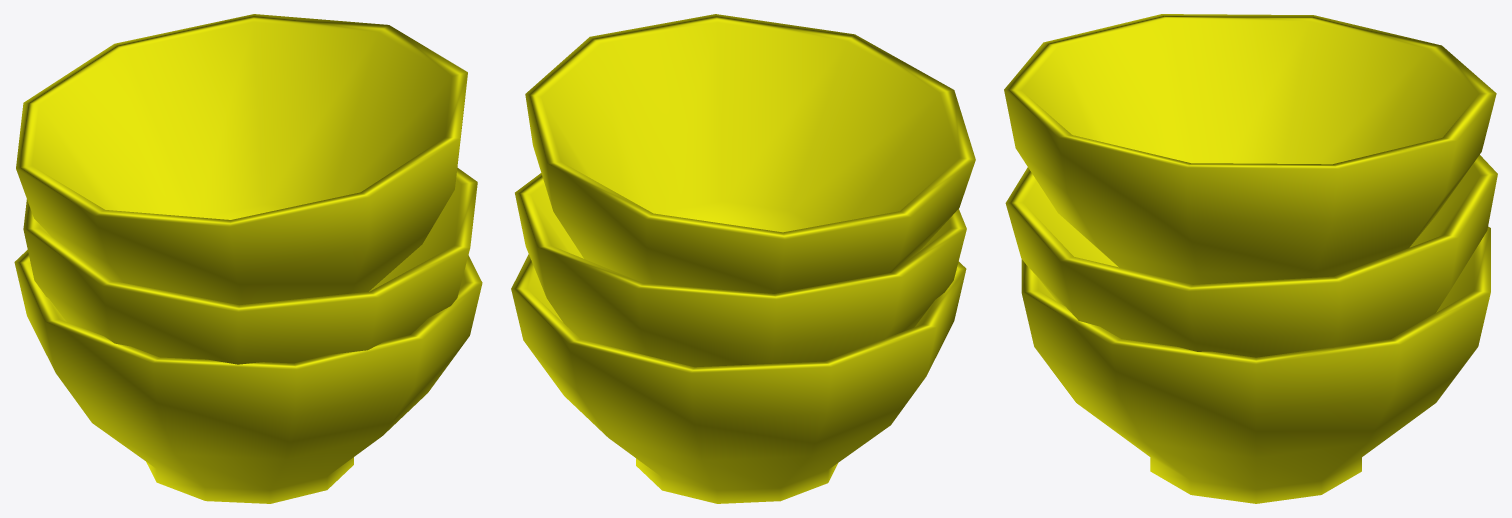
Rendered from Bowl_Pile_01_Lod1.fbx.
The picture shows the model from 3 angles, left to right: view 1: azimuth 30°, elevation 25°; view 2: azimuth 150°, elevation 25°; view 3: azimuth 270°, elevation 25°; orthographic projection. The views are drawn at different scales.
Visible parts, largest first — view 1: Bowl_Pile_01_Lod1; view 2: Bowl_Pile_01_Lod1; view 3: Bowl_Pile_01_Lod1.
Part boxes in pixels (box(x1,y1,x2,y2)): Bowl_Pile_01_Lod1: box(14, 14, 482, 503); Bowl_Pile_01_Lod1: box(511, 14, 975, 503); Bowl_Pile_01_Lod1: box(1004, 14, 1497, 503).
Size of the model in its own units: 18.45 by 15.88 by 18.42.
